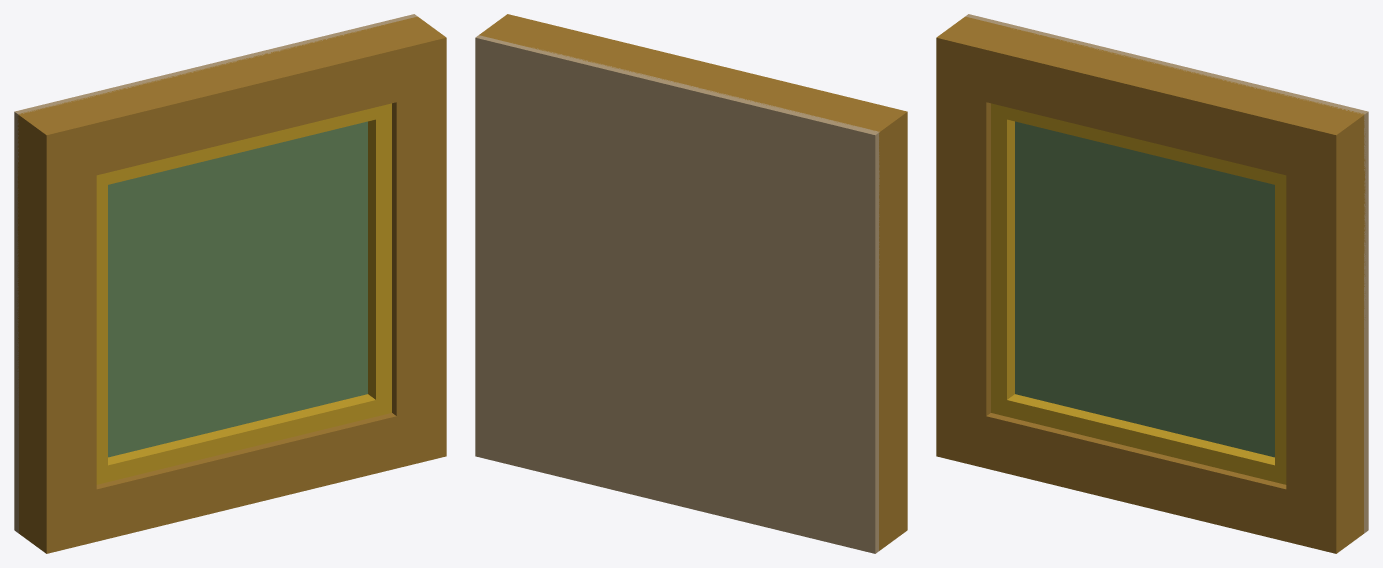
The model's file is FrameSmall.fbx.
The picture shows the model from 3 angles, left to right: view 1: azimuth 30°, elevation 25°; view 2: azimuth 150°, elevation 25°; view 3: azimuth 330°, elevation 25°; orthographic projection.
Visible parts, largest first — view 1: FrameSmall; view 2: FrameSmall; view 3: FrameSmall.
Part boxes in pixels (<box>): FrameSmall: <box>14,14,446,553</box>; FrameSmall: <box>475,14,907,553</box>; FrameSmall: <box>936,14,1368,553</box>.
Size of the model in its own units: 20 by 20 by 2.8.
